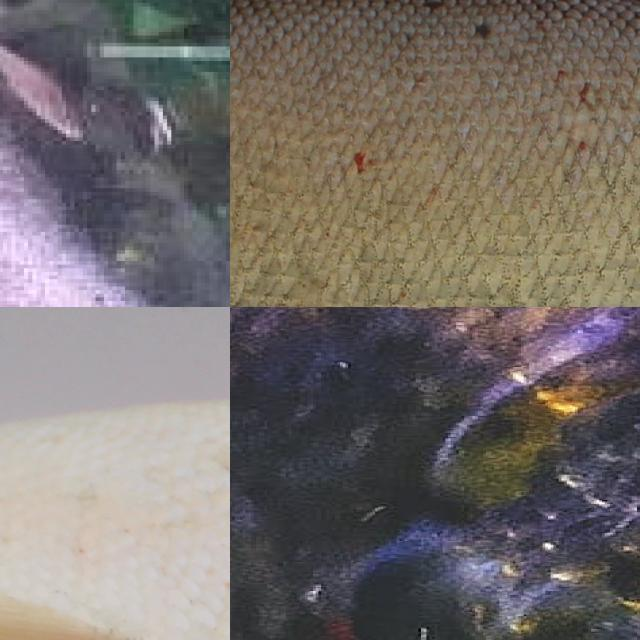fish: (230, 307, 640, 640), (230, 0, 640, 307), (0, 320, 230, 640), (0, 0, 230, 307)
